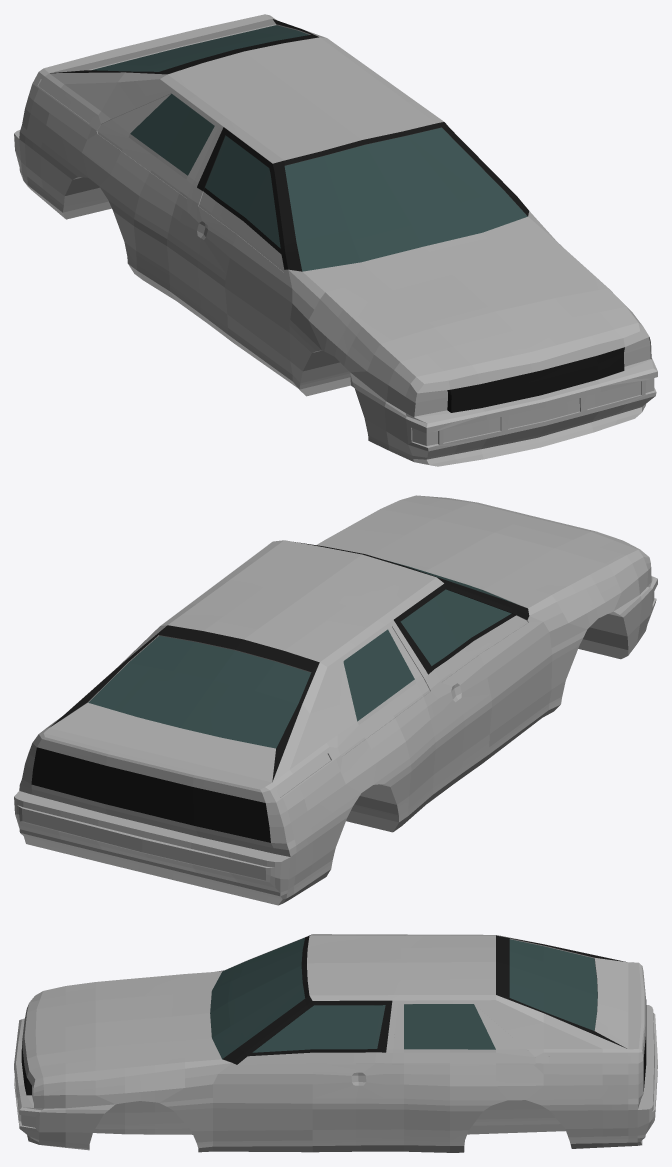
File: car_textured.fbx
3 renders of one model, top to bottom at view 1: azimuth 30°, elevation 25°; view 2: azimuth 150°, elevation 25°; view 3: azimuth 270°, elevation 25°, orthographic. The views are drawn at different scales.
Visible parts, largest first — view 1: car; view 2: car; view 3: car.
Boxes of the visible parts, <box> form: car: <box>14,14,657,466</box>; car: <box>14,495,657,905</box>; car: <box>14,934,657,1152</box>.
Bounding box in the file's own units: 143 × 88.64 × 359.
